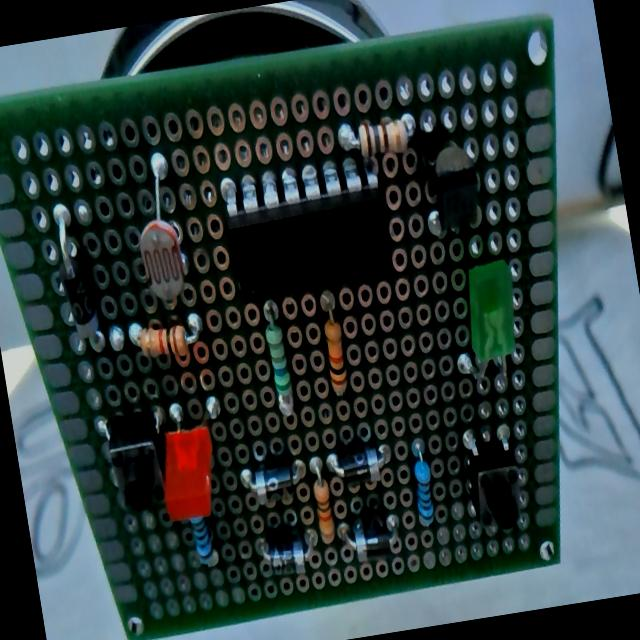IC: (225, 173, 402, 308)
cds: (124, 152, 194, 310)
diode: (52, 208, 106, 348), (240, 456, 308, 505), (328, 442, 391, 488), (342, 512, 398, 562), (260, 531, 316, 578)
led: (444, 256, 528, 394), (153, 420, 224, 525)
resistor: (133, 309, 208, 371), (260, 298, 297, 418), (316, 288, 352, 397), (344, 114, 416, 162), (408, 438, 441, 528), (308, 453, 338, 542), (188, 516, 218, 568)
switch: (463, 434, 530, 537), (104, 410, 170, 514)
transistor: (417, 136, 494, 244)
